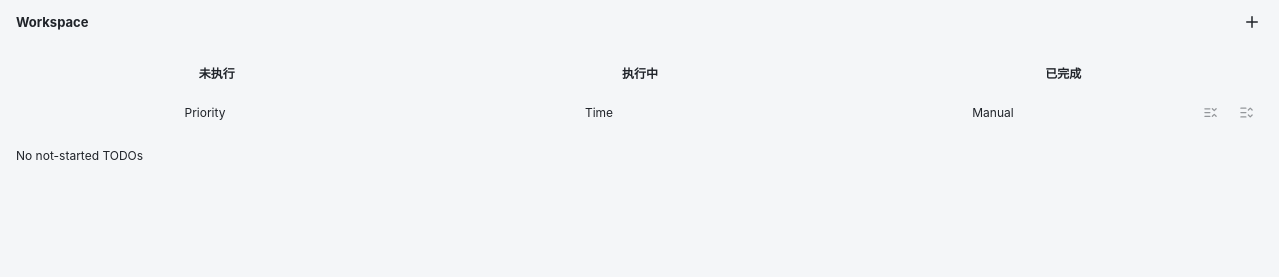
ProjectSidebar › shows task terminal groups only when task terminals exist
Click the button with test id "todo-view-in-progress".
click(640, 72)  # box [431,56,849,88]
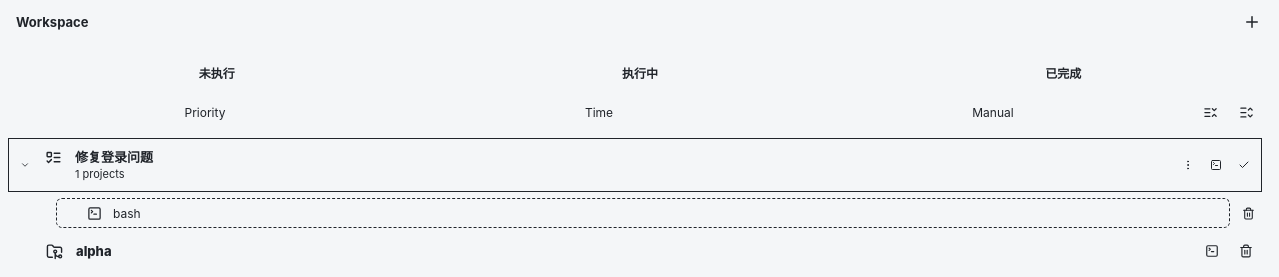
Now the element with test id "task-terminal-list-todo-a" is shown, box [36,198,1262,228]
Now the button with test id "task-terminal-task-terminal-a" is shown, box [56,198,1230,228]
